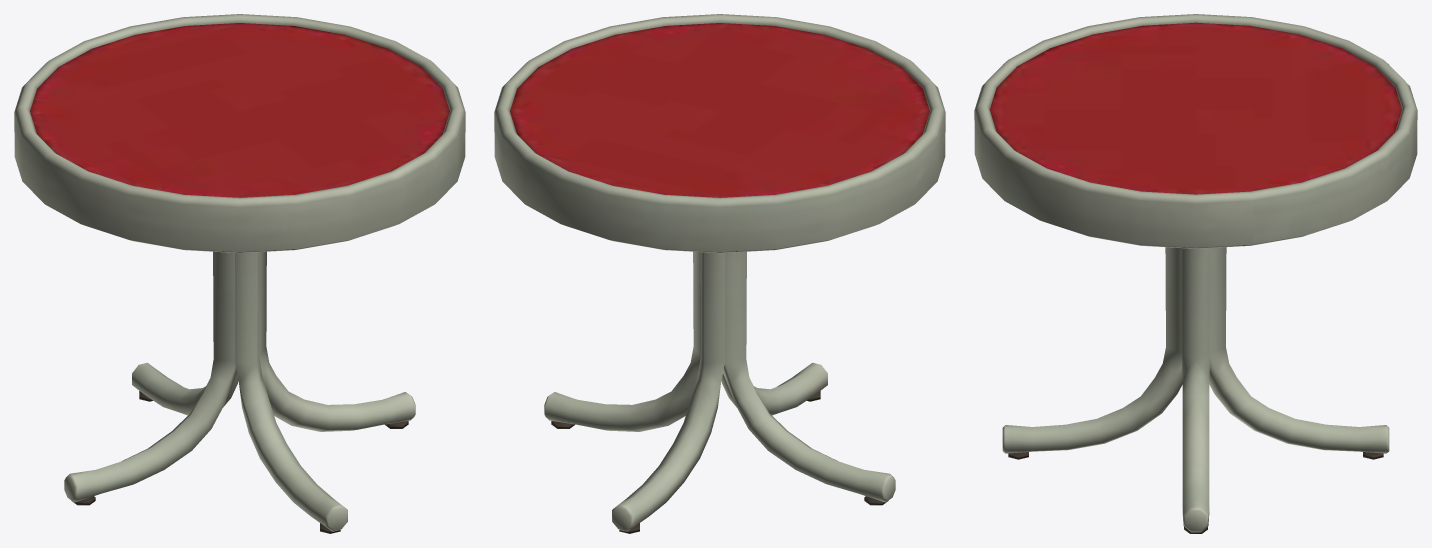
The picture shows the model from 3 angles, left to right: view 1: azimuth 30°, elevation 25°; view 2: azimuth 150°, elevation 25°; view 3: azimuth 270°, elevation 25°; orthographic projection.
Size of the model in its own units: 9.2 by 8 by 9.2.
2 materials, 2 textured.
